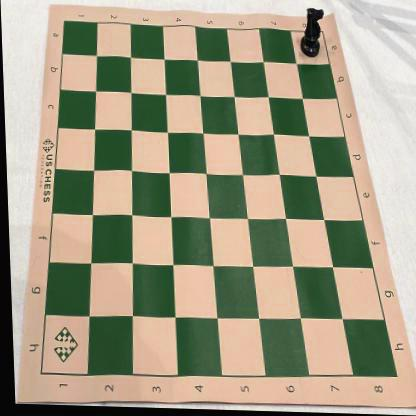black-knight: (298, 8, 326, 59)
